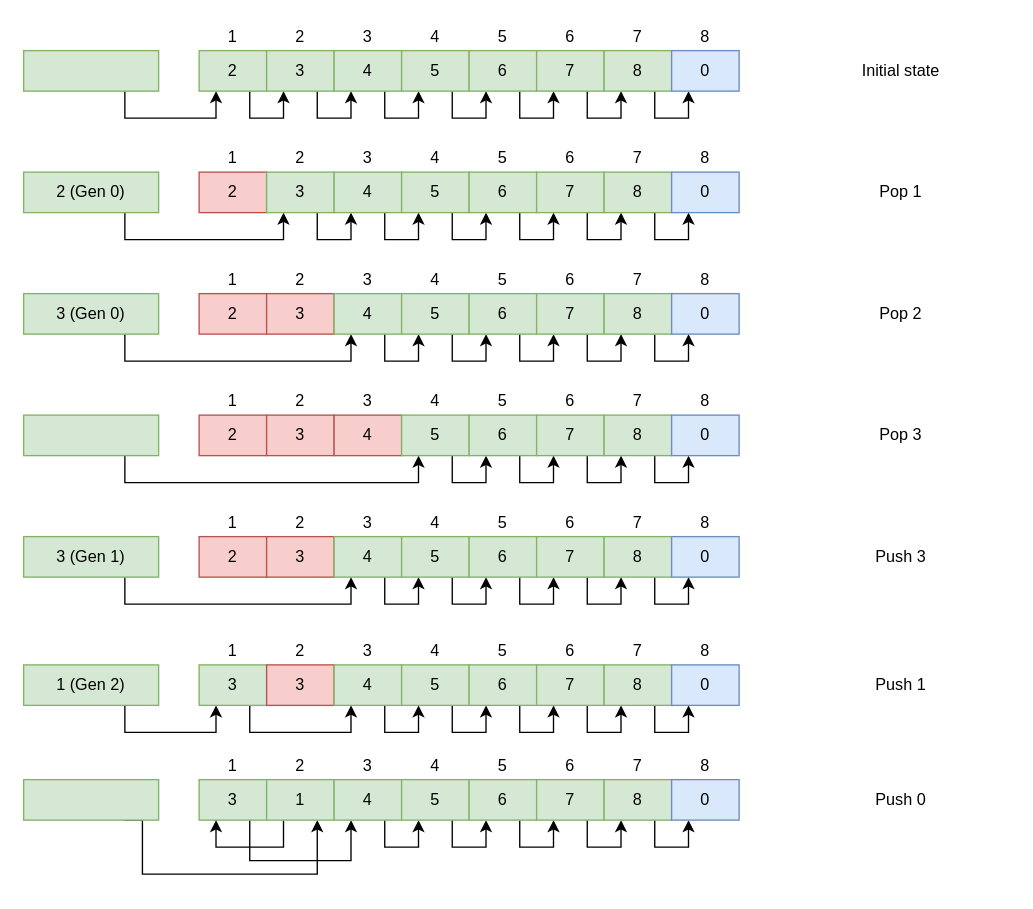
Image size: 1033x909. Some labels were removed from this diagram. The shapes that lost their labels are listed below. From the top down, each one's centre as x and y in pixels, then its label:
At (x=90, y=70): "1 (Gen 0)".
At (x=90, y=435): "4 (Gen 0)".
At (x=90, y=799): "2 (Gen 3)".
